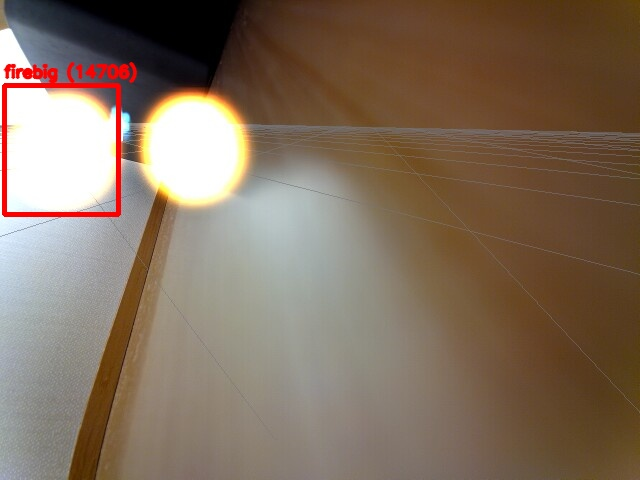firebig: (4, 85, 118, 214)
